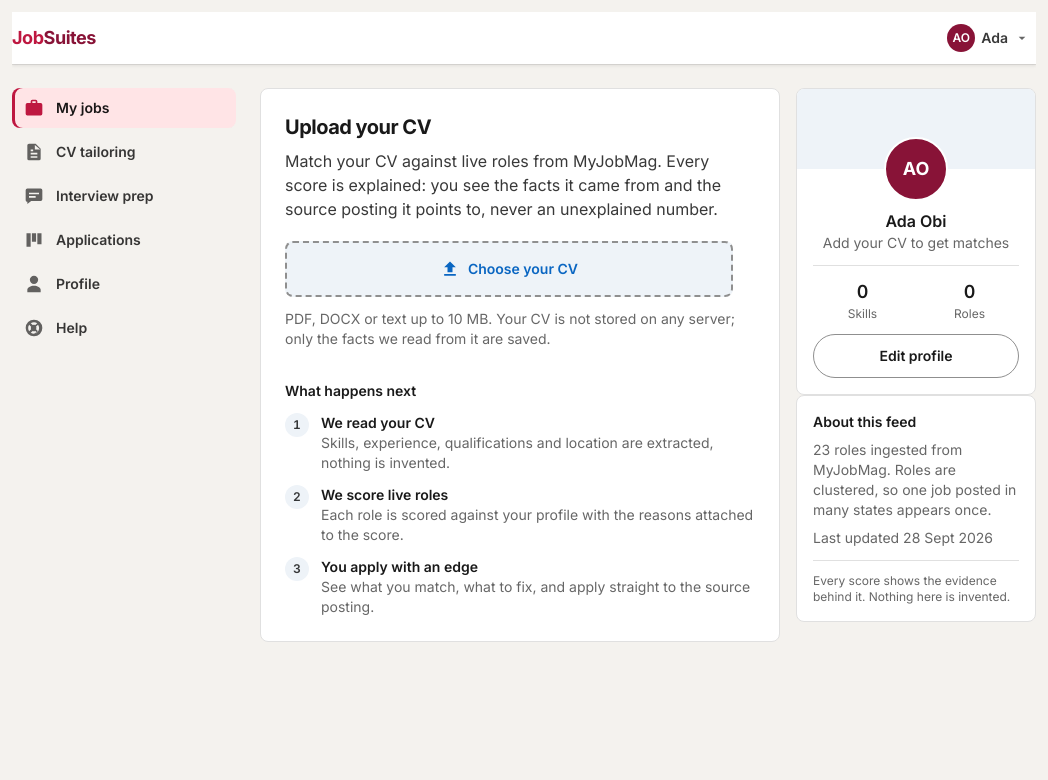
it: sign out › closes the account menu on Escape and returns focus to its button
The image size is (1048, 780).
Check: the heading "Upload your CV" is shown, box [285,115,431,139]
Click the button named "account menu" at (989, 38), box [941,12,1036,64]
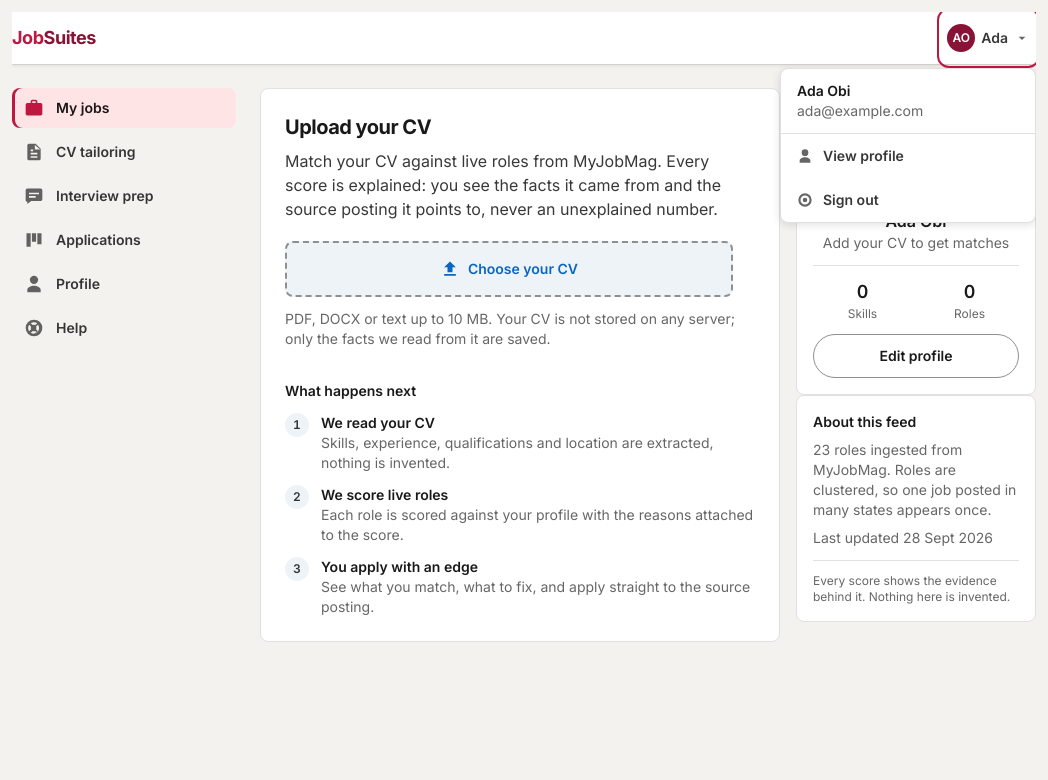
Press Escape
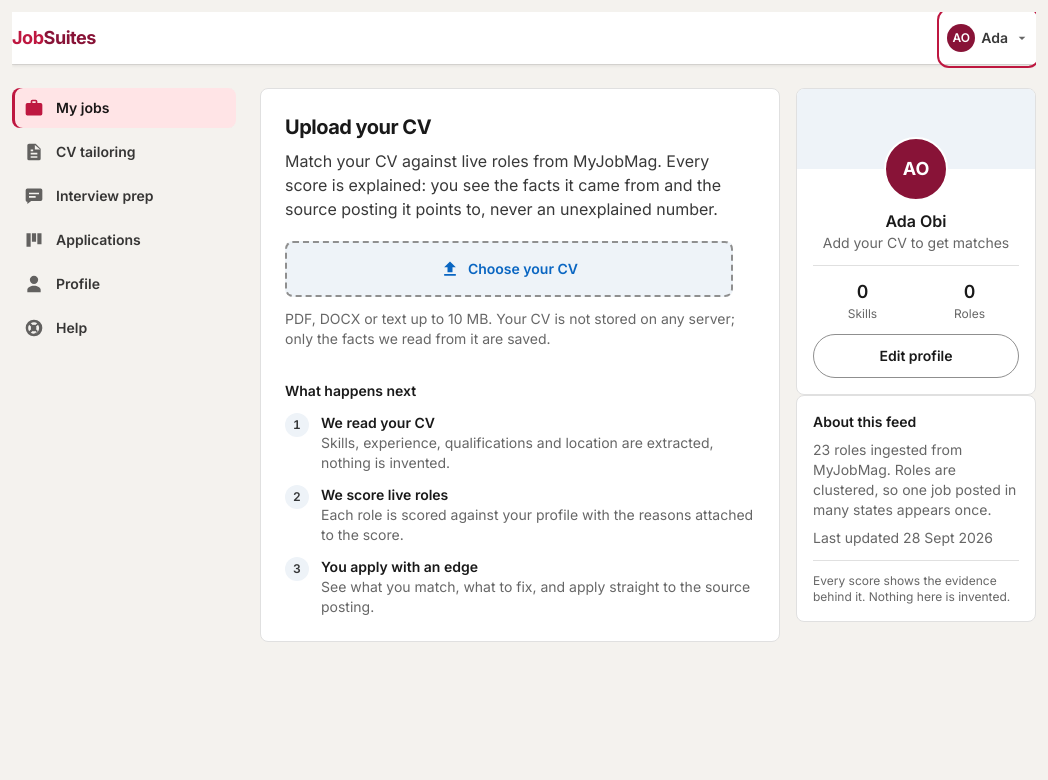
Check: the menu is gone
